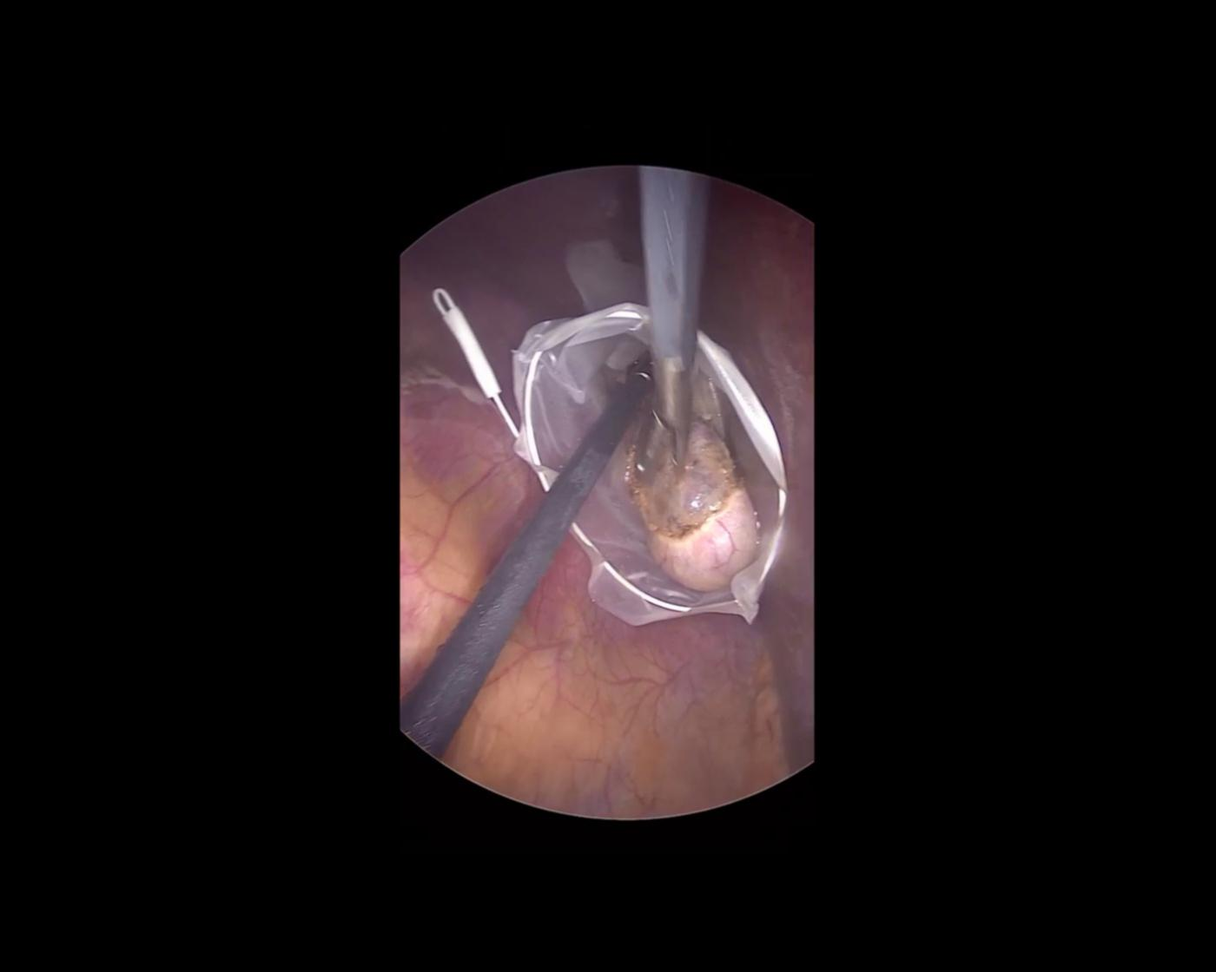Bag: (415, 174, 856, 685)
Forceps: (385, 330, 666, 759), (614, 166, 706, 481)
Gallbladder: (600, 391, 783, 610)
Liver: (698, 178, 815, 778)
